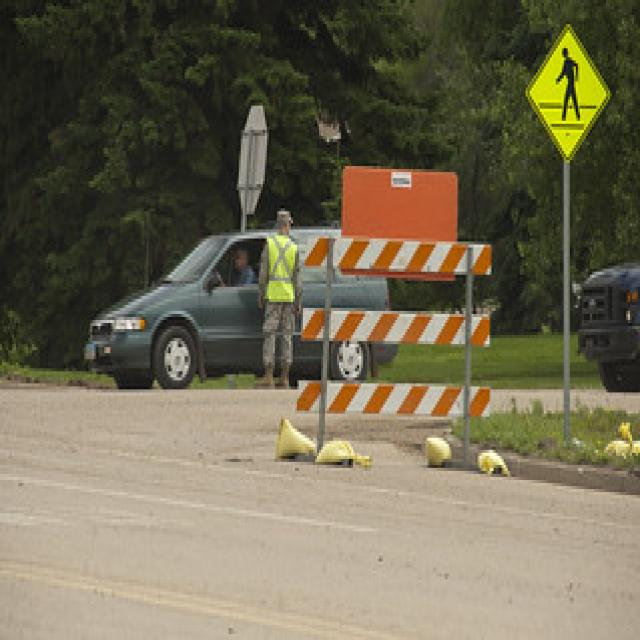light_vehicle: (74, 199, 412, 414)
